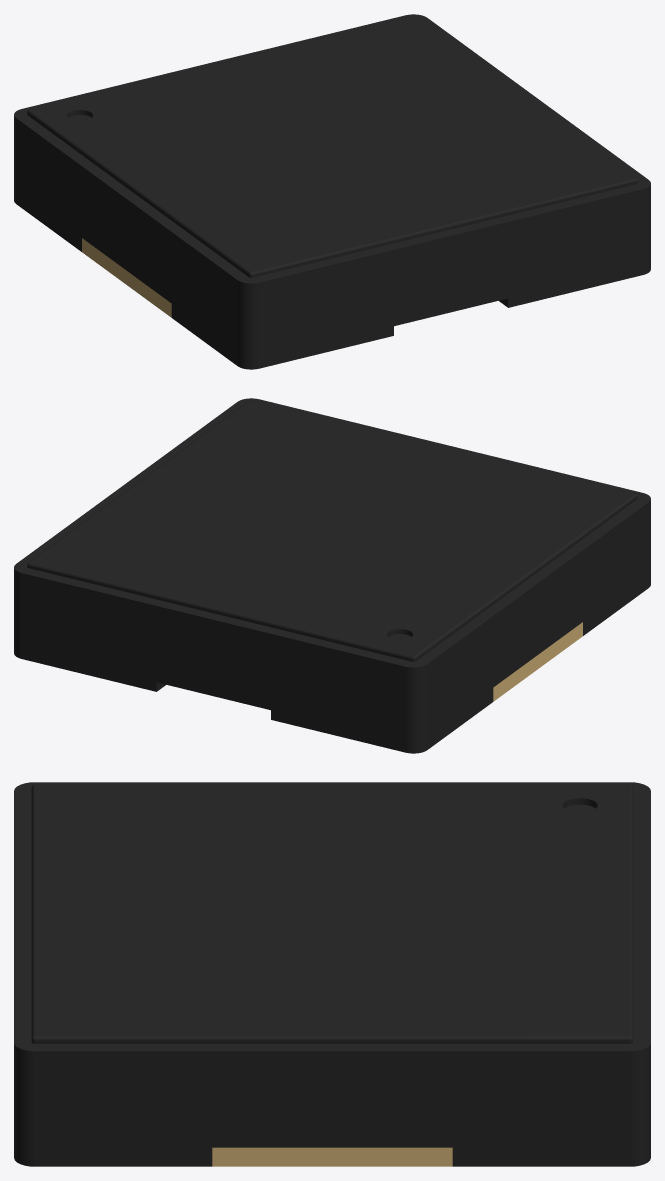
File: Buzzer_Beeper__Buzzer_Murata_PKMCS0909E.glb
3 views of the same model, one above another, from view 1: azimuth 30°, elevation 25°; view 2: azimuth 150°, elevation 25°; view 3: azimuth 270°, elevation 25° (orthographic). The views are drawn at different scales.
Visible parts, largest first — view 1: Buzzer_Murata_PKMCS0909E4000_R1; view 2: Buzzer_Murata_PKMCS0909E4000_R1; view 3: Buzzer_Murata_PKMCS0909E4000_R1.
Part boxes in pixels (bbox=[...]): Buzzer_Murata_PKMCS0909E4000_R1: bbox=[14, 14, 650, 369]; Buzzer_Murata_PKMCS0909E4000_R1: bbox=[14, 398, 650, 753]; Buzzer_Murata_PKMCS0909E4000_R1: bbox=[14, 782, 650, 1166].
Size of the model in its own units: 0.009 by 0.0019 by 0.009.
